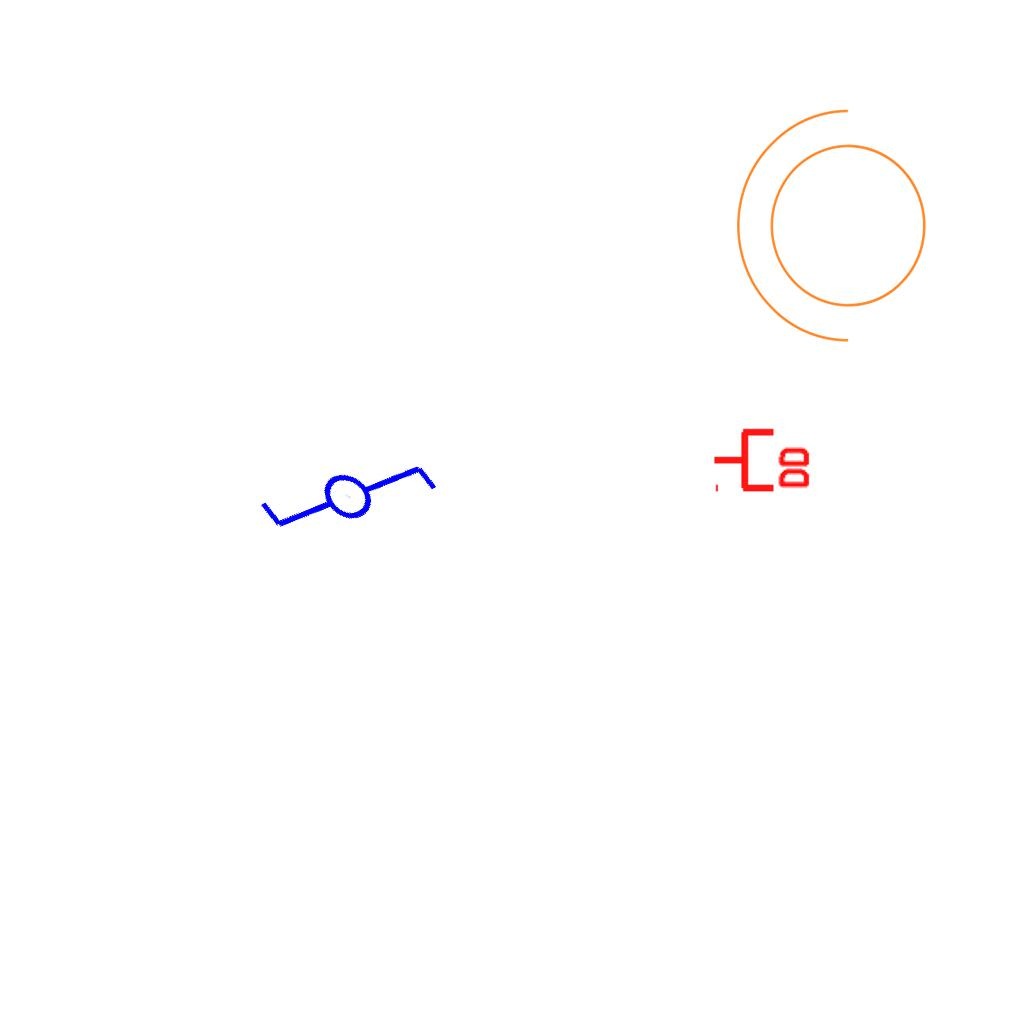Datenanschluss_zweifach: (711, 424, 814, 493)
Scheinwerfer_fuer_Alarmbeleuchtung: (726, 100, 951, 364)
Wechselschalter: (236, 385, 449, 595)
